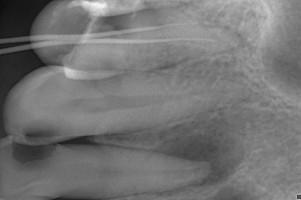Furcation Involvement: (157, 124, 246, 187)
